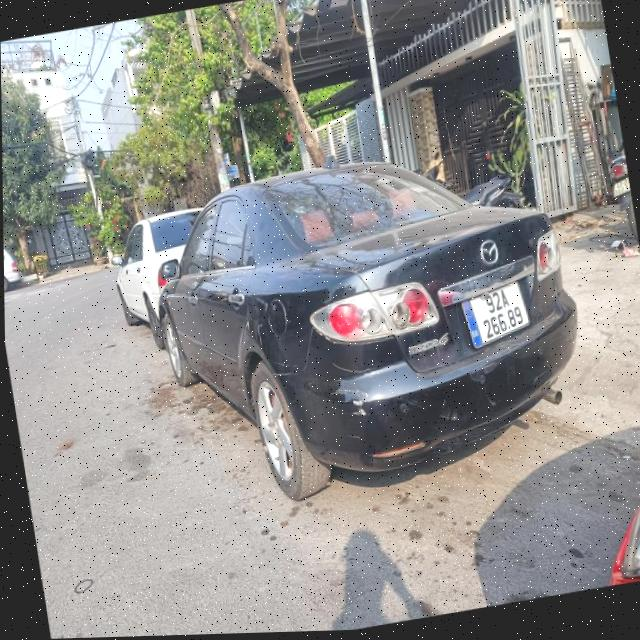car: (110, 116, 606, 532), (4, 236, 28, 299)
plate: (457, 277, 537, 352)
